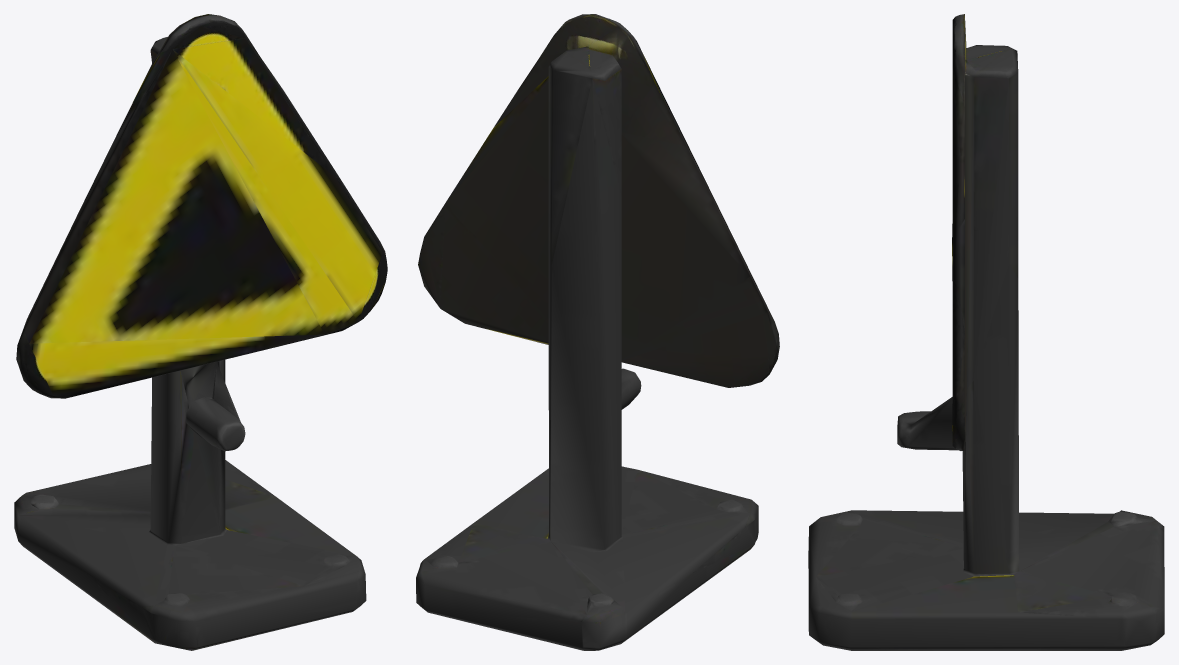
The picture shows the model from 3 angles, left to right: view 1: azimuth 30°, elevation 25°; view 2: azimuth 150°, elevation 25°; view 3: azimuth 270°, elevation 25°; orthographic projection. The views are drawn at different scales.
Size of the model in its own units: 1.3 by 1.9 by 1.06.
1 material, 1 textured.
